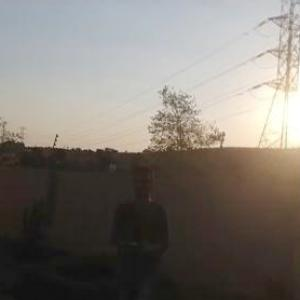follow: (102, 160, 174, 299)
